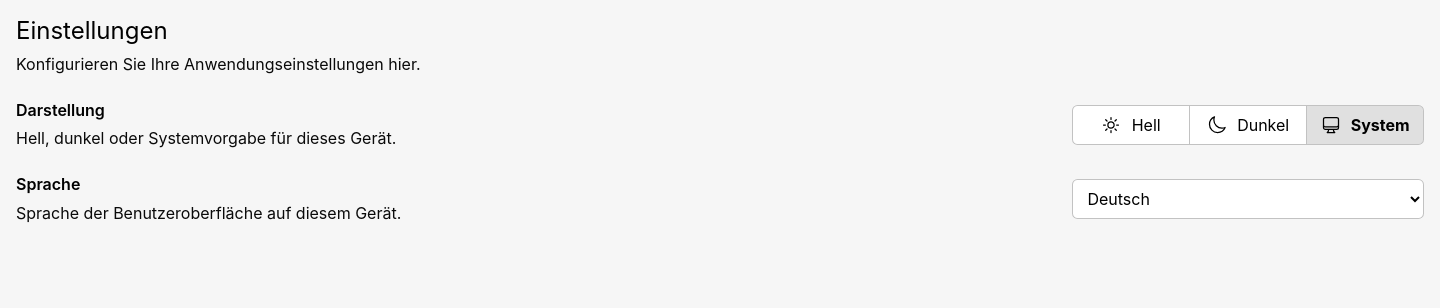
Test: SettingsPage › updates settings copy when the language control switches locale
The width and height of the screenshot is (1440, 308).
Expected: the heading "Einstellungen" is shown, [16, 16, 168, 45]
Step 1. Select "English" in the dropdown with id "settings-language" → (1248, 199), box [1072, 179, 1424, 219]
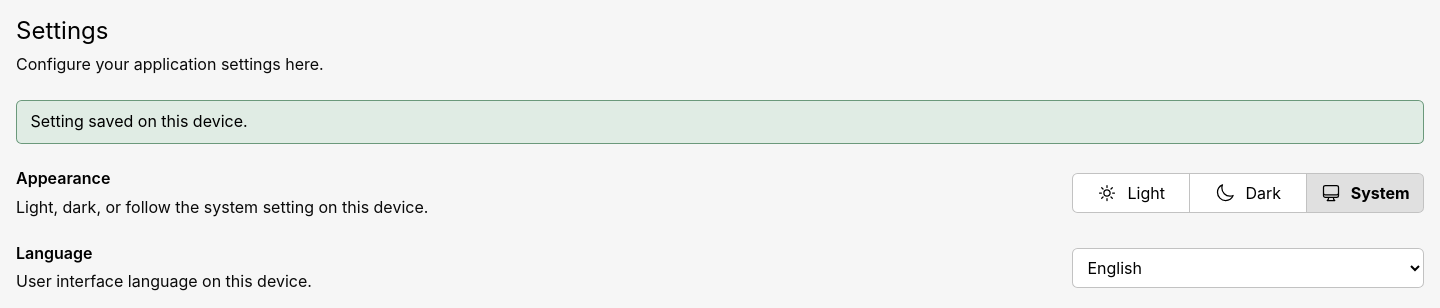
Expected: the heading "Settings" is shown, [16, 16, 108, 45]
Expected: the text "Light, dark, or follow the system setting on this device." is shown, [16, 196, 428, 216]
Expected: the text "User interface language on this device." is shown, [16, 271, 312, 291]
